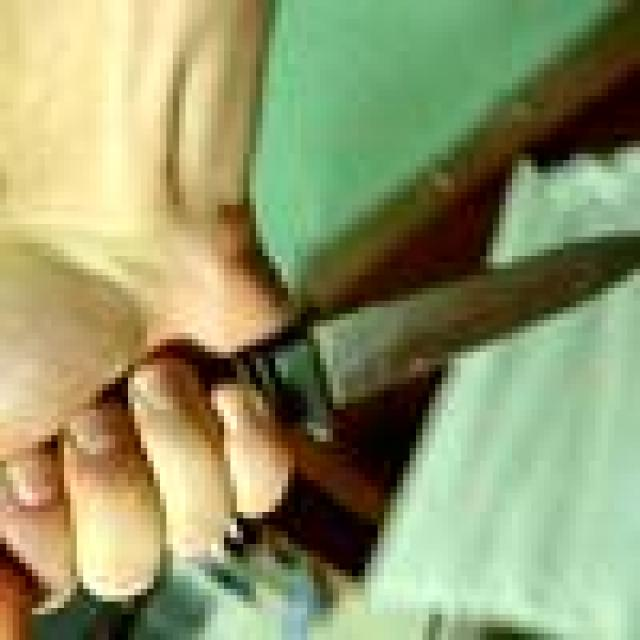weapon: (13, 198, 640, 564)
